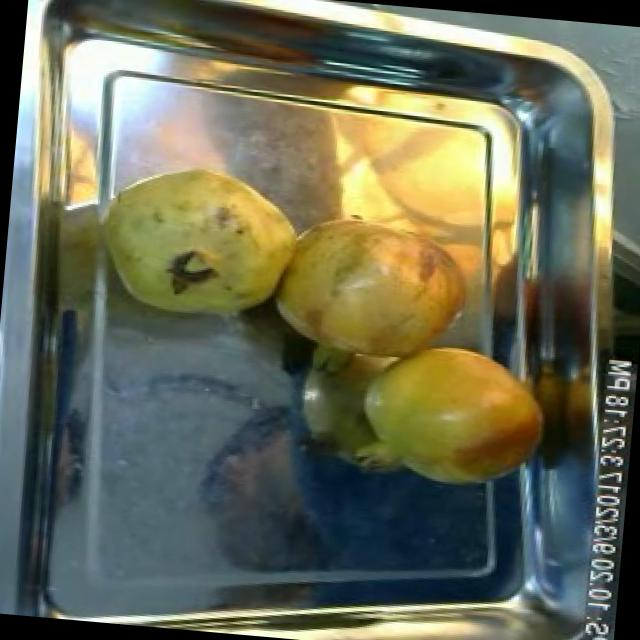fruit: (256, 197, 491, 386), (89, 153, 312, 334), (340, 329, 557, 502)
